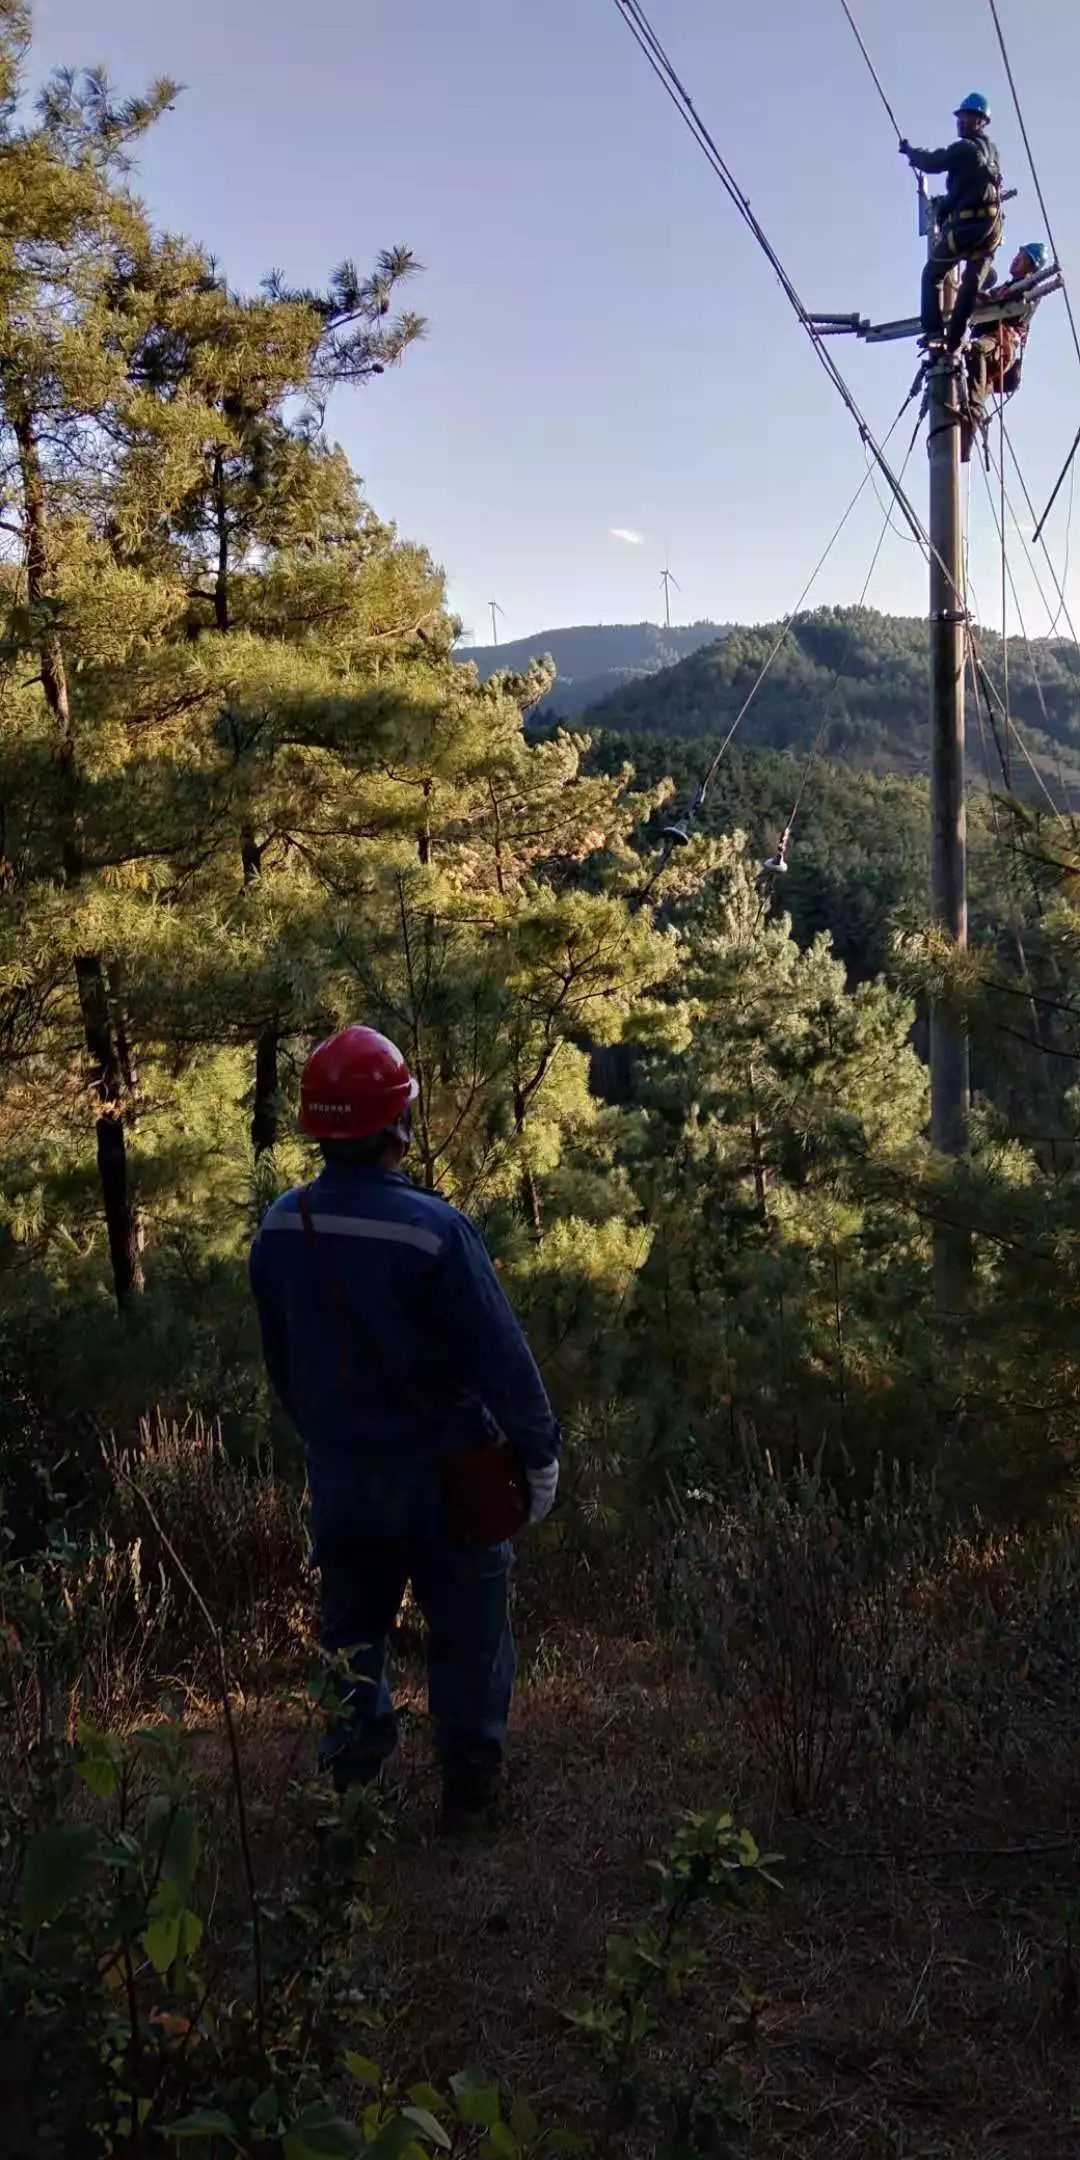blue: (951, 91, 995, 136), (1007, 238, 1048, 278)
red: (293, 1035, 423, 1172)
